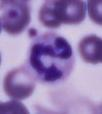N: (24, 32, 78, 86)
